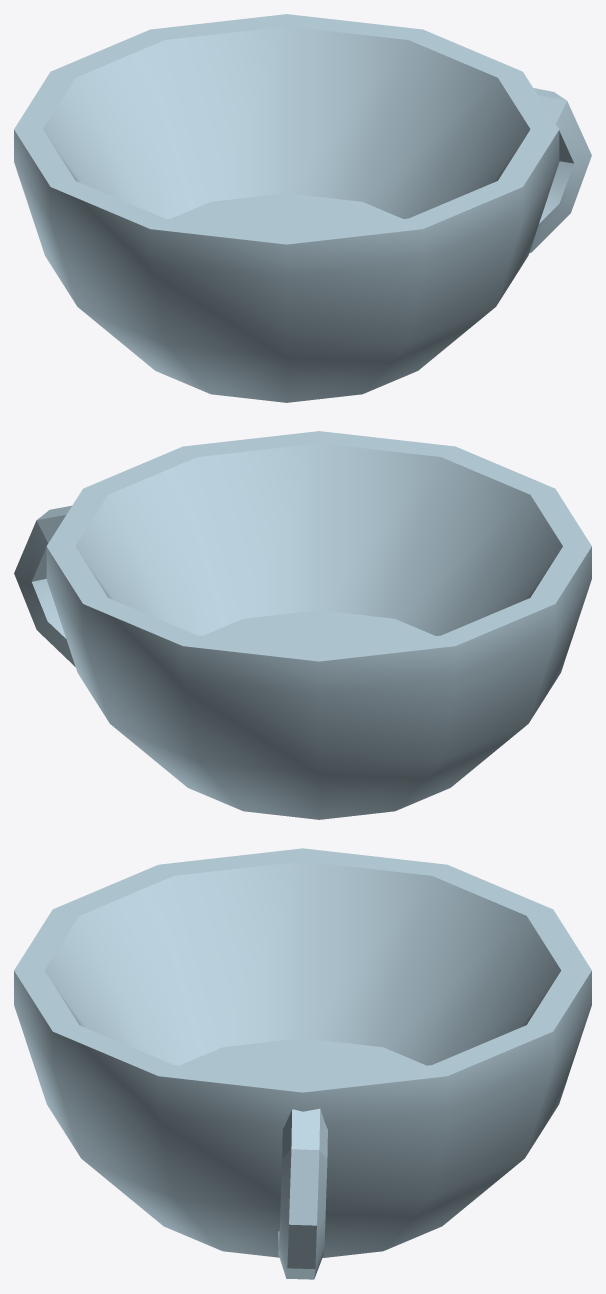
Rendered from Tazzina.fbx.
3 renders of one model, top to bottom at view 1: azimuth 30°, elevation 25°; view 2: azimuth 150°, elevation 25°; view 3: azimuth 270°, elevation 25°, orthographic. The views are drawn at different scales.
Visible parts, largest first — view 1: Tazzina; view 2: Tazzina; view 3: Tazzina.
Boxes of the visible parts, box(x1,y1,x2,y2) form: Tazzina: box(14, 14, 591, 402); Tazzina: box(14, 431, 591, 819); Tazzina: box(14, 848, 591, 1279).
Size of the model in its own units: 0.065 by 0.0243 by 0.0574.
